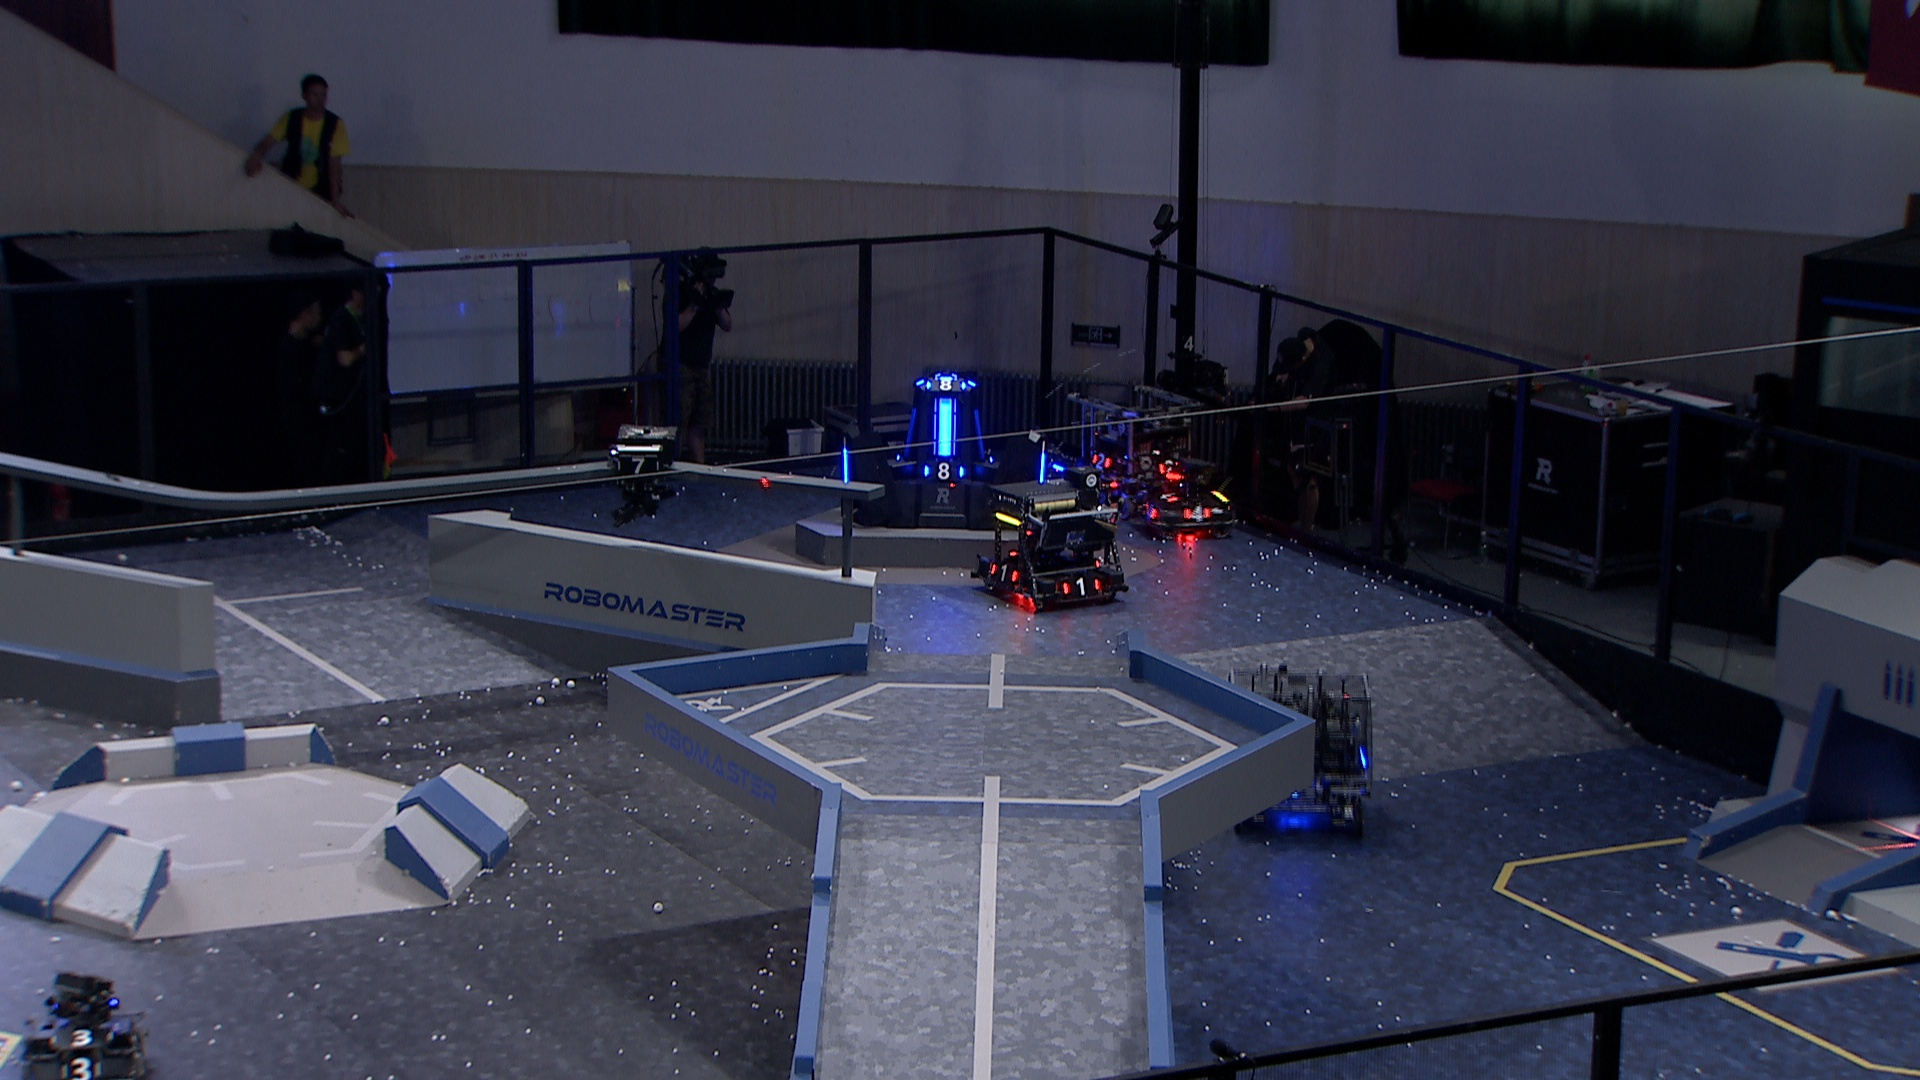armor: (46, 1025, 117, 1050), (932, 396, 959, 458), (57, 1055, 105, 1080), (611, 452, 661, 476), (969, 404, 989, 462), (899, 404, 920, 458), (1058, 574, 1102, 597), (918, 462, 968, 483), (923, 373, 968, 392), (986, 562, 1021, 584), (123, 1033, 146, 1062), (1182, 501, 1211, 524), (1088, 451, 1116, 472), (841, 444, 855, 485), (1156, 458, 1182, 477), (1139, 501, 1160, 524), (1035, 451, 1048, 485), (1156, 488, 1182, 502)
base: (835, 368, 1054, 535)
car: (1220, 662, 1375, 839), (973, 475, 1129, 613), (1067, 378, 1207, 517), (12, 967, 153, 1080), (1124, 458, 1244, 537)
watcher: (604, 422, 680, 531)
